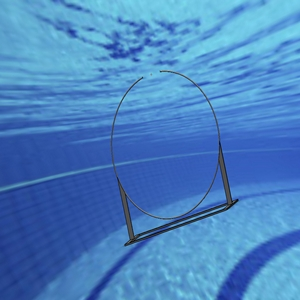circle: (108, 68, 238, 245)
